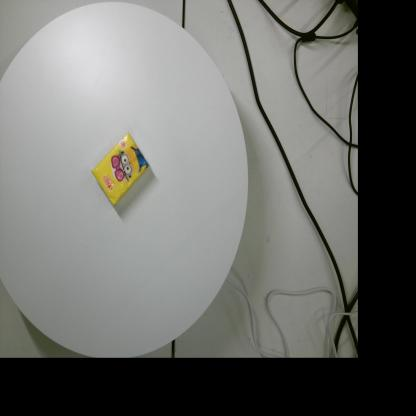Tissue: (91, 132, 149, 206)
